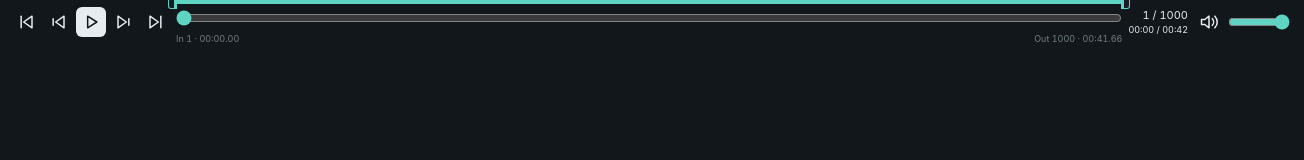
Test: shows a note if the desktop media check never replies
This screenshot has width=1304, height=160.
Click the button named "Play". click: (91, 22)
box: x1=76 y1=7 x2=106 y2=37
Wait 5001 ms
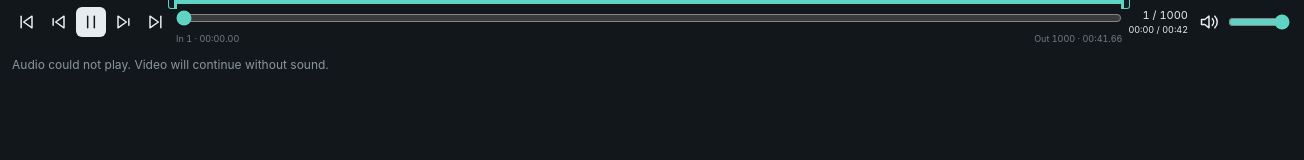
Expected: the text "Audio could not play. Video will continue without sound." is shown, x1=12 y1=57 x2=329 y2=72
